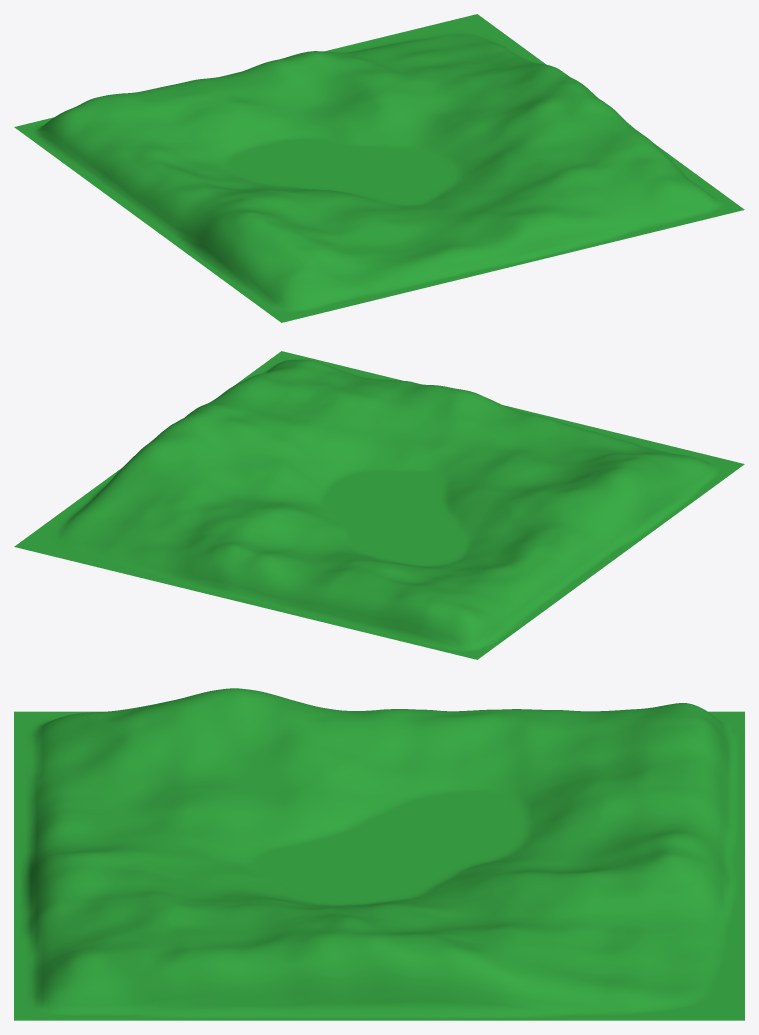
Rendered from landscape.fbx.
The picture shows the model from 3 angles, top to bottom: view 1: azimuth 30°, elevation 25°; view 2: azimuth 150°, elevation 25°; view 3: azimuth 270°, elevation 25°; orthographic projection. The views are drawn at different scales.
Visible parts, largest first — view 1: Landscape; view 2: Landscape; view 3: Landscape.
Boxes of the visible parts, x1,y1,x2,y2 form: Landscape: [14, 14, 744, 322]; Landscape: [14, 351, 744, 659]; Landscape: [14, 688, 744, 1020].
Bounding box in the file's own units: 30000 × 2426 × 30000.
